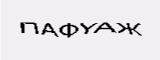Е: (56, 25, 69, 44)
Ф: (38, 22, 54, 46)
Ш: (68, 23, 88, 40)
Э: (103, 26, 119, 49)
Ю: (87, 24, 103, 46)
